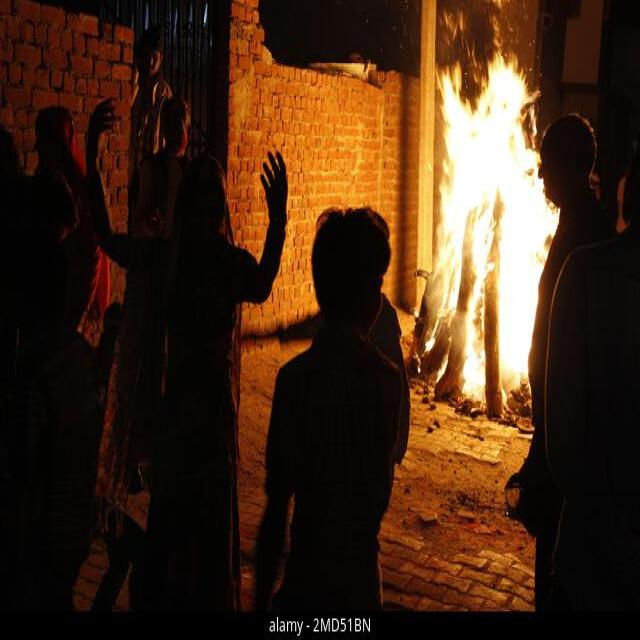fire: (425, 53, 560, 409)
